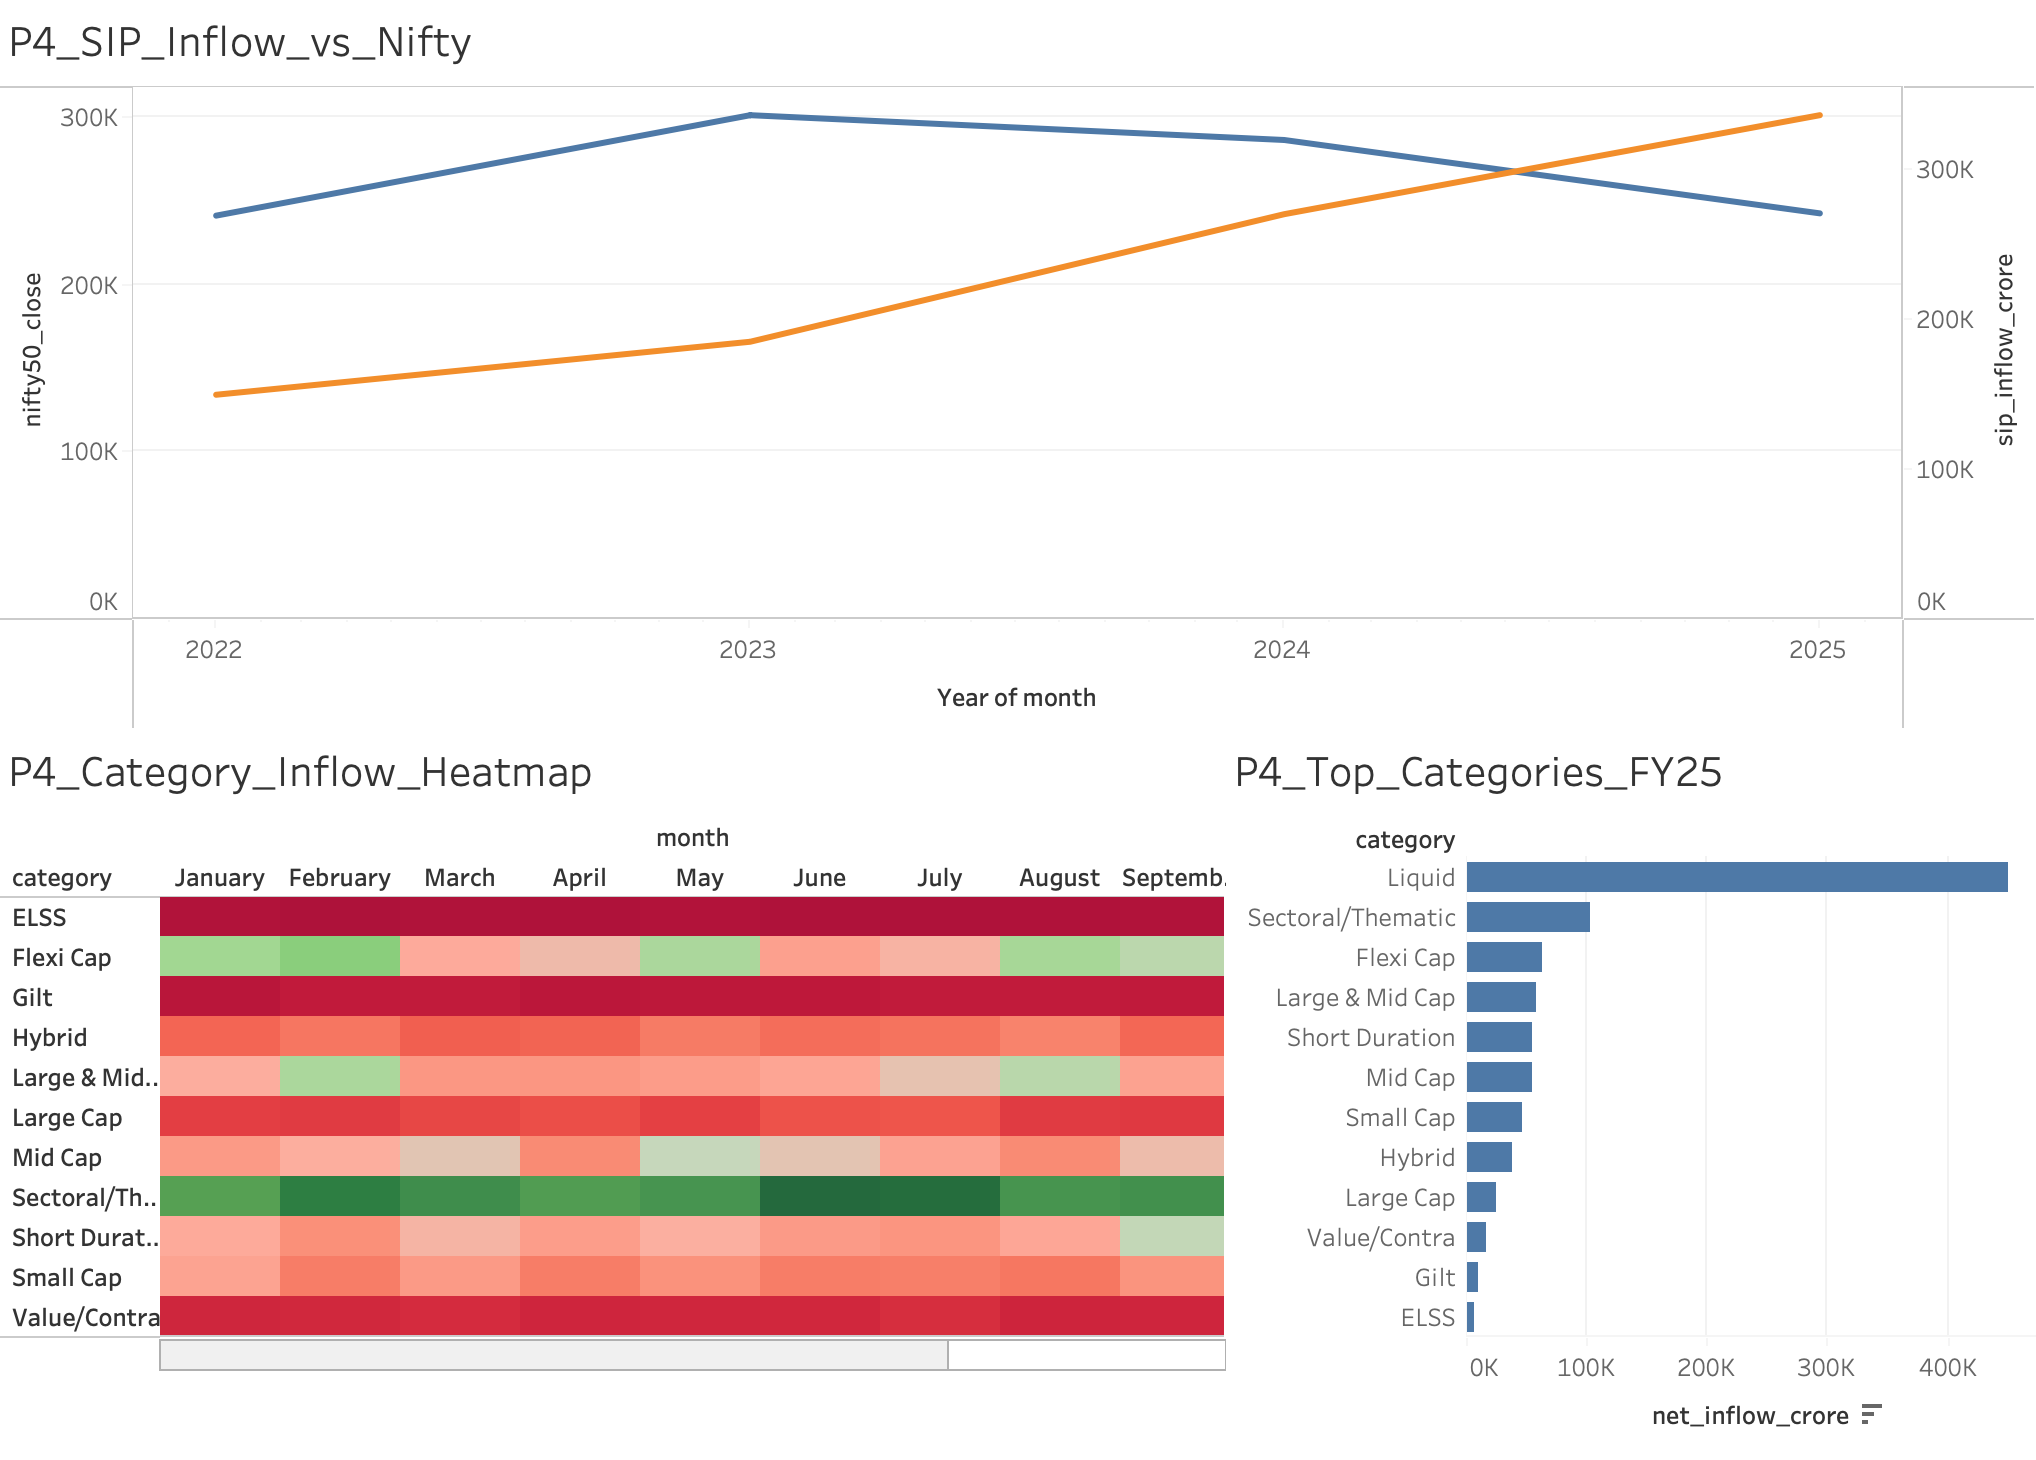

What the dashboard file says about the page in this screenshot:
{"tool":"tableau","page":{"name":"4. SIP & Market Trends","canvas":[1000,1000],"units":"permille","ordinal":3},"visuals":[{"type":"worksheet","title":"P4_SIP_Inflow_vs_Nifty","mark":"Automatic","rows":["nifty50_close","sip_inflow_crore"],"cols":["month"],"box":[0,0,1000,500]},{"type":"worksheet","title":"P4_Category_Inflow_Heatmap","mark":"Square","rows":["category"],"cols":["month"],"box":[0,500,602.2,500]},{"type":"worksheet","title":"P4_Top_Categories_FY25","mark":"Automatic","rows":["category"],"cols":["net_inflow_crore"],"box":[602.2,500,397.8,500]}]}

Visuals, with their boxes on the dashboard's canvas, which has no fixed pixel size, in thousandths of its width and height (x1, y1, x2, y2). These are canvas units, not pixel positions in the 2036x1460 screenshot, which may show the page scaled, cropped or inside an application window:
"P4_SIP_Inflow_vs_Nifty" worksheet: region(0, 0, 1000, 500)
"P4_Category_Inflow_Heatmap" worksheet (Square marks): region(0, 500, 602, 1000)
"P4_Top_Categories_FY25" worksheet: region(602, 500, 1000, 1000)
